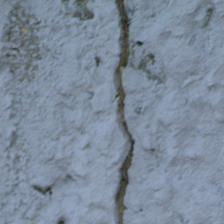Crack: (56, 3, 90, 220)
